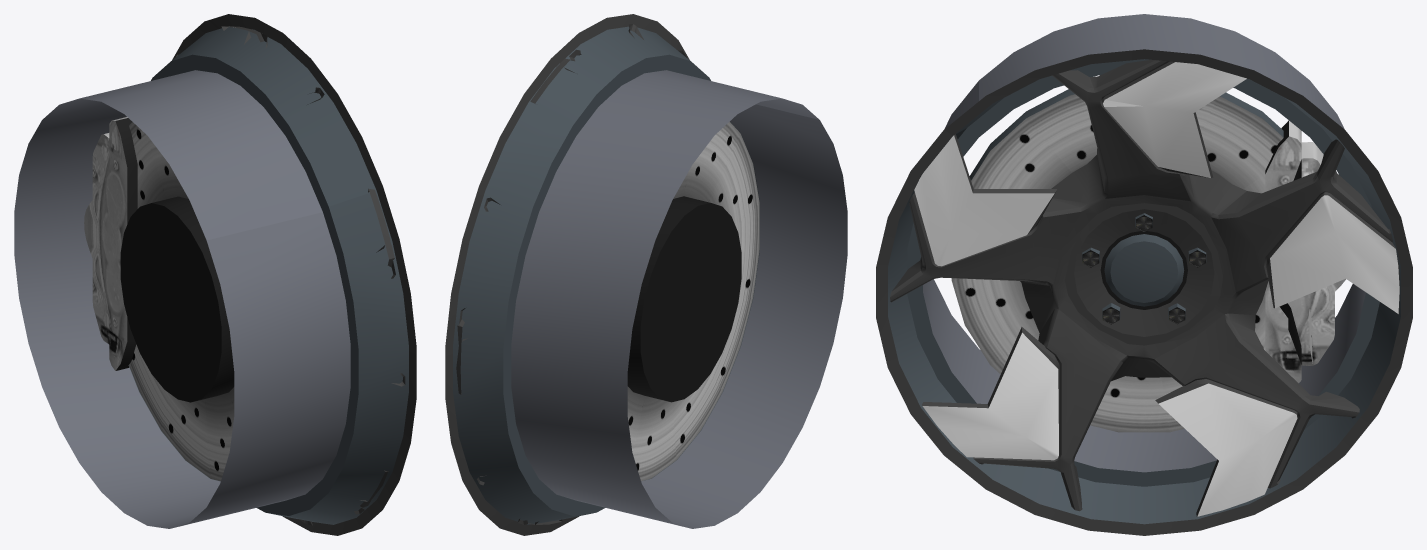
The picture shows the model from 3 angles, left to right: view 1: azimuth 30°, elevation 25°; view 2: azimuth 150°, elevation 25°; view 3: azimuth 270°, elevation 25°; orthographic projection.
Parts seen in each view (by area): view 1: 120, BrakeDisc, Caliper; view 2: 120, BrakeDisc; view 3: 120, BrakeDisc, Caliper.
Boxes of the visible parts, x1=… form: 120: x1=14, y1=14, x2=416, y2=535; BrakeDisc: x1=120, y1=122, x2=234, y2=481; Caliper: x1=84, y1=117, x2=137, y2=370; 120: x1=445, y1=14, x2=847, y2=535; BrakeDisc: x1=627, y1=121, x2=759, y2=481; 120: x1=876, y1=14, x2=1412, y2=535; BrakeDisc: x1=951, y1=89, x2=1283, y2=432; Caliper: x1=1265, y1=120, x2=1345, y2=383.
Size of the model in its own units: 0.1833 by 0.5335 by 0.5334.
